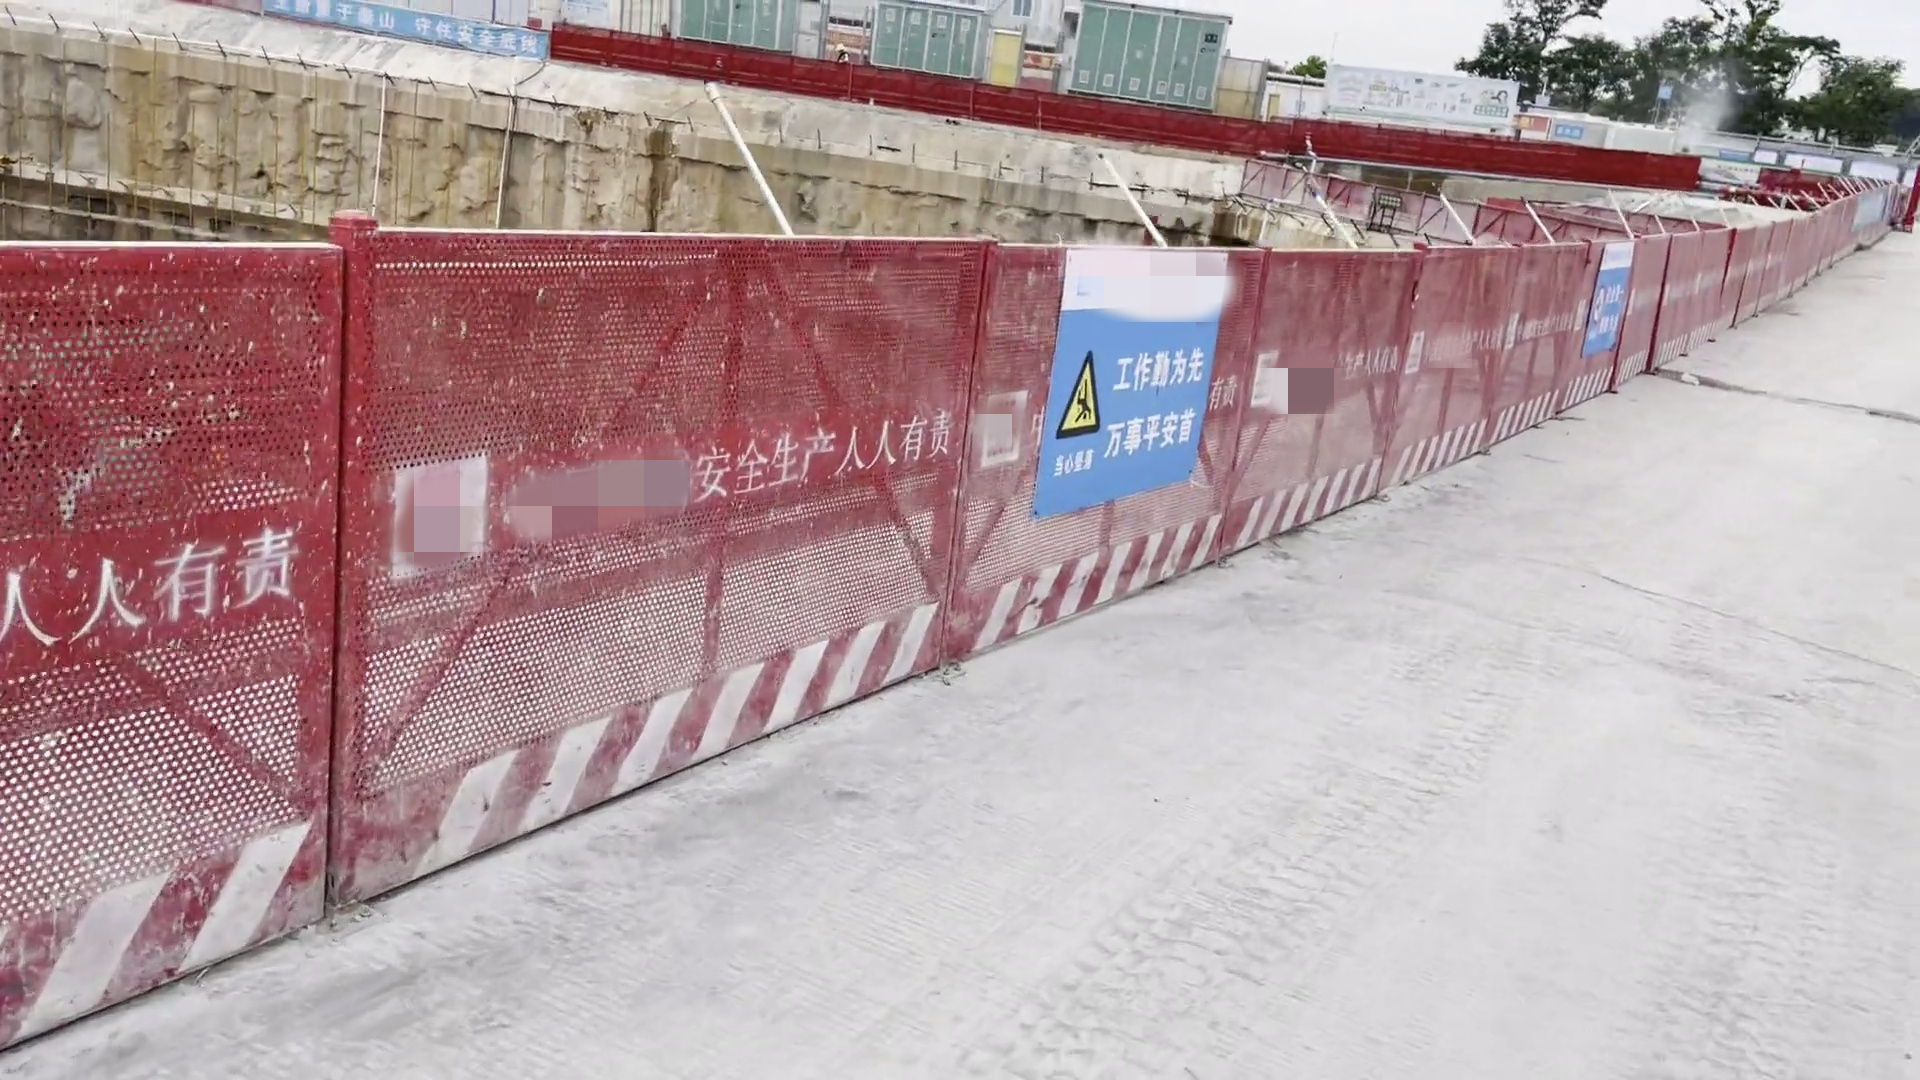fence: (1, 182, 1899, 1046), (166, 3, 1882, 204)
slogan: (1, 516, 298, 663), (694, 413, 953, 500), (272, 1, 547, 69), (1337, 339, 1399, 378)
